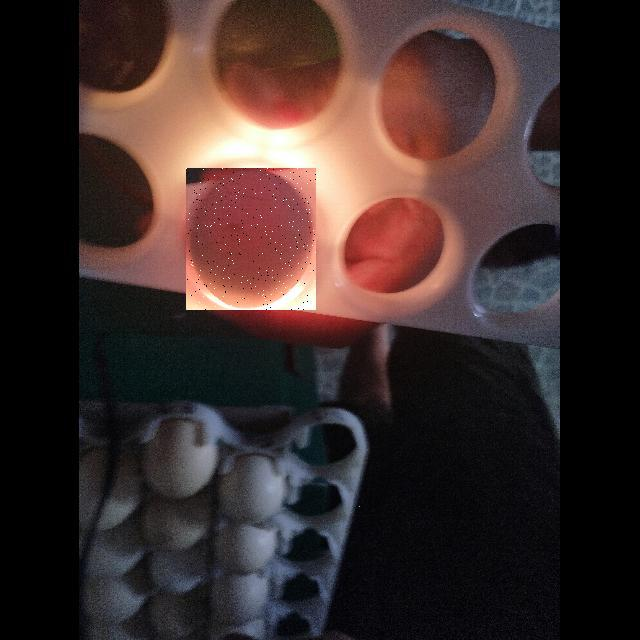Fertile: (186, 168, 316, 310)
